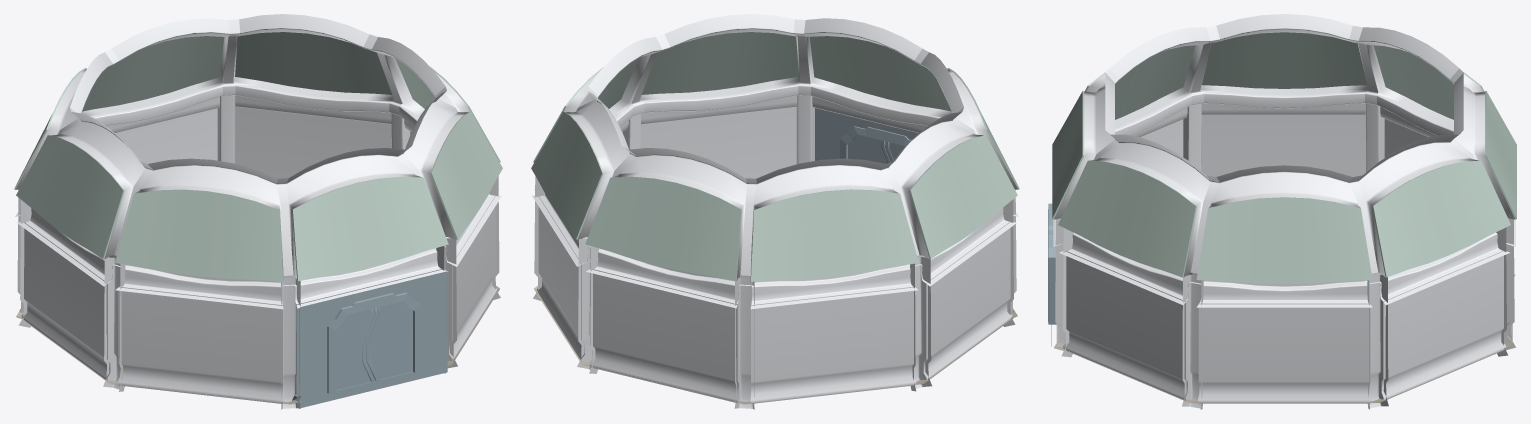
File: Lab_Entorno.fbx
The picture shows the model from 3 angles, left to right: view 1: azimuth 30°, elevation 25°; view 2: azimuth 150°, elevation 25°; view 3: azimuth 270°, elevation 25°; orthographic projection.
Parts seen in each view (by area): view 1: Paredes_Base_G3, Ventana_G3, Ventana_G4, Marco_Vent_G3, Pared_Puerta_G, Ventana_G2, Paredes_Base_G2, Marco_Vent_G4, Paredes_Base_G7, Ventana_G7, Marco_Vent_G7, Ventana_G8 (+23 smaller); view 2: Paredes_Base_G1, Paredes_Base_G, Ventana_G1, Ventana_G8, Marco_Vent_G1, Ventana_G2, Marco_Vent_G, Paredes_Base_G2, Ventana_G5, Paredes_Base_G5, Marco_Vent_G5, Ventana_G4 (+22 smaller); view 3: Paredes_Base_G6, Ventana_G6, Paredes_Base_G7, Paredes_Base_G5, Ventana_G7, Ventana_G5, Paredes_Base_G2, Marco_Vent_G6, Ventana_G2, Marco_Vent_G2, Marco_Vent_G7, Marco_Vent_G5 (+21 smaller).
Boxes of the visible parts, x1=… form: Paredes_Base_G3: x1=117, y1=286, x2=283, y2=403; Ventana_G3: x1=115, y1=189, x2=283, y2=281; Ventana_G4: x1=292, y1=176, x2=448, y2=281; Marco_Vent_G3: x1=115, y1=158, x2=283, y2=309; Pared_Puerta_G: x1=292, y1=269, x2=447, y2=408; Ventana_G2: x1=16, y1=135, x2=124, y2=259; Paredes_Base_G2: x1=21, y1=222, x2=110, y2=380; Marco_Vent_G4: x1=287, y1=148, x2=447, y2=308; Paredes_Base_G7: x1=235, y1=106, x2=391, y2=178; Ventana_G7: x1=235, y1=32, x2=392, y2=94; Marco_Vent_G7: x1=233, y1=14, x2=394, y2=124; Ventana_G8: x1=82, y1=36, x2=224, y2=111; Paredes_Base_G1: x1=750, y1=287, x2=916, y2=403; Paredes_Base_G: x1=589, y1=268, x2=738, y2=402; Ventana_G1: x1=750, y1=189, x2=918, y2=281; Ventana_G8: x1=585, y1=176, x2=741, y2=280; Marco_Vent_G1: x1=750, y1=158, x2=918, y2=309; Ventana_G2: x1=909, y1=135, x2=1017, y2=259; Marco_Vent_G: x1=586, y1=148, x2=746, y2=308; Paredes_Base_G2: x1=923, y1=221, x2=1012, y2=380; Ventana_G5: x1=641, y1=32, x2=798, y2=94; Paredes_Base_G5: x1=640, y1=107, x2=796, y2=178; Marco_Vent_G5: x1=639, y1=14, x2=800, y2=124; Ventana_G4: x1=809, y1=36, x2=951, y2=111; Paredes_Base_G6: x1=1198, y1=303, x2=1371, y2=403; Ventana_G6: x1=1196, y1=197, x2=1372, y2=284; Paredes_Base_G7: x1=1381, y1=250, x2=1505, y2=400; Paredes_Base_G5: x1=1063, y1=251, x2=1187, y2=400; Ventana_G7: x1=1372, y1=160, x2=1510, y2=277; Ventana_G5: x1=1058, y1=160, x2=1196, y2=277; Paredes_Base_G2: x1=1201, y1=115, x2=1365, y2=176; Marco_Vent_G6: x1=1196, y1=165, x2=1372, y2=307; Ventana_G2: x1=1202, y1=32, x2=1367, y2=88; Marco_Vent_G2: x1=1200, y1=14, x2=1368, y2=114; Marco_Vent_G7: x1=1358, y1=134, x2=1509, y2=304; Marco_Vent_G5: x1=1059, y1=134, x2=1210, y2=304.
Bounding box in the file's own units: 2588 × 1394 × 2612.
